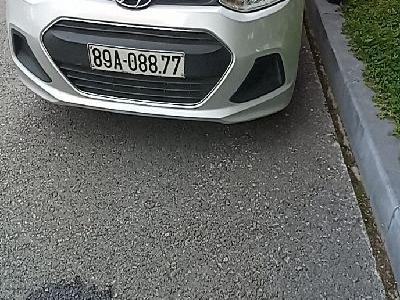car: (86, 41, 187, 81)
